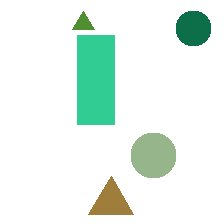circle: (131, 133, 175, 177), (176, 11, 210, 45)
rectangle: (77, 35, 114, 124)
triangle: (88, 176, 133, 214), (72, 11, 94, 29)
